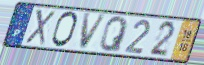2: (148, 21, 177, 59), (123, 18, 152, 55)
O: (50, 10, 79, 49)
Q: (98, 15, 130, 53)
V: (79, 12, 109, 51)
X: (23, 8, 57, 47)
